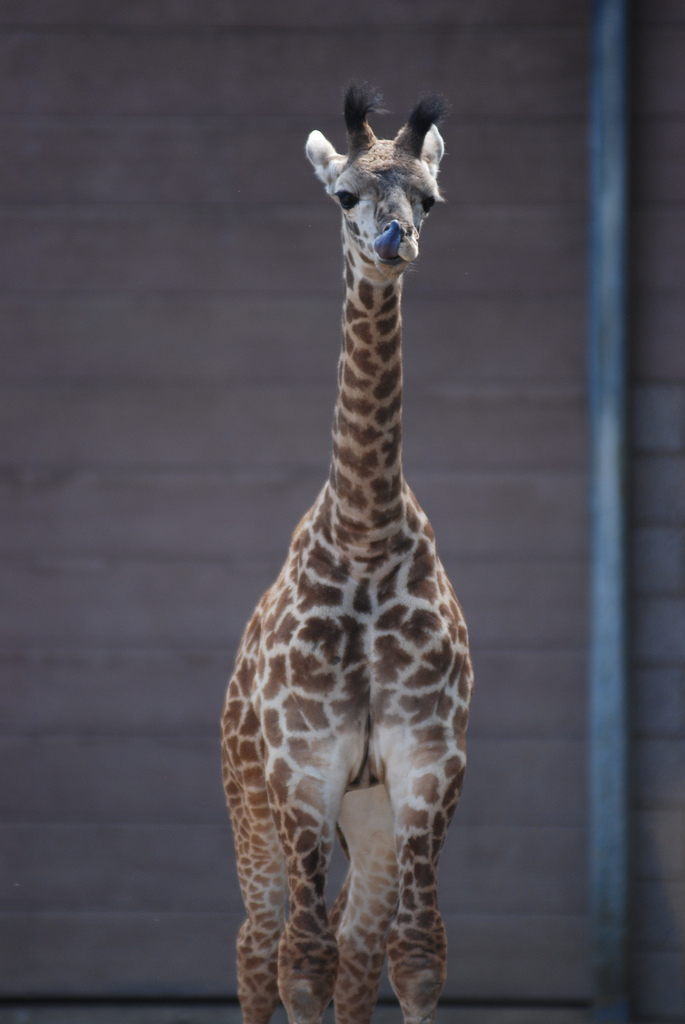giraffe: (203, 77, 512, 981)
